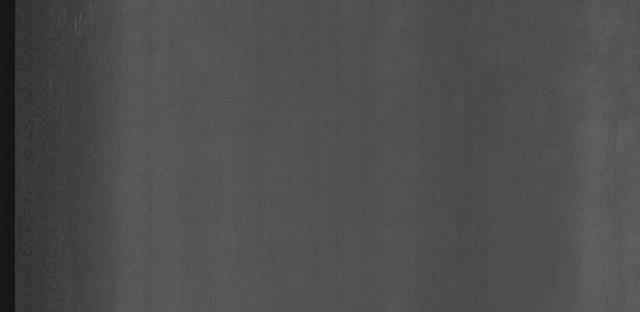silk_spot: (33, 11, 114, 107)
